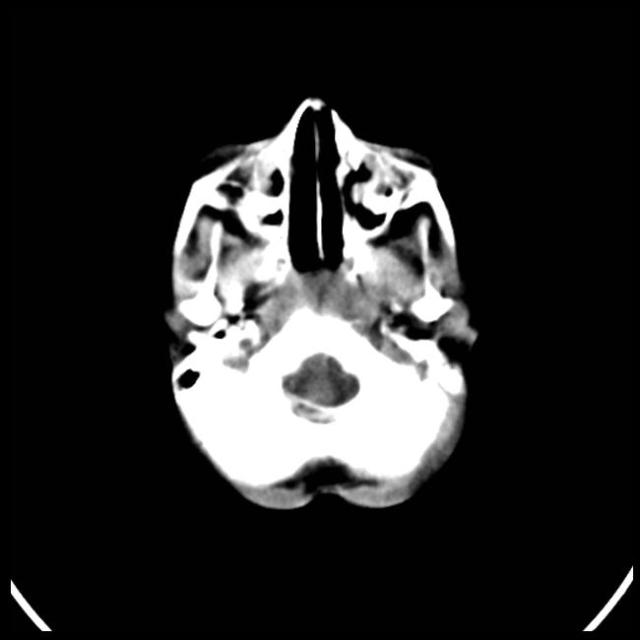lesion: (157, 92, 486, 516)
